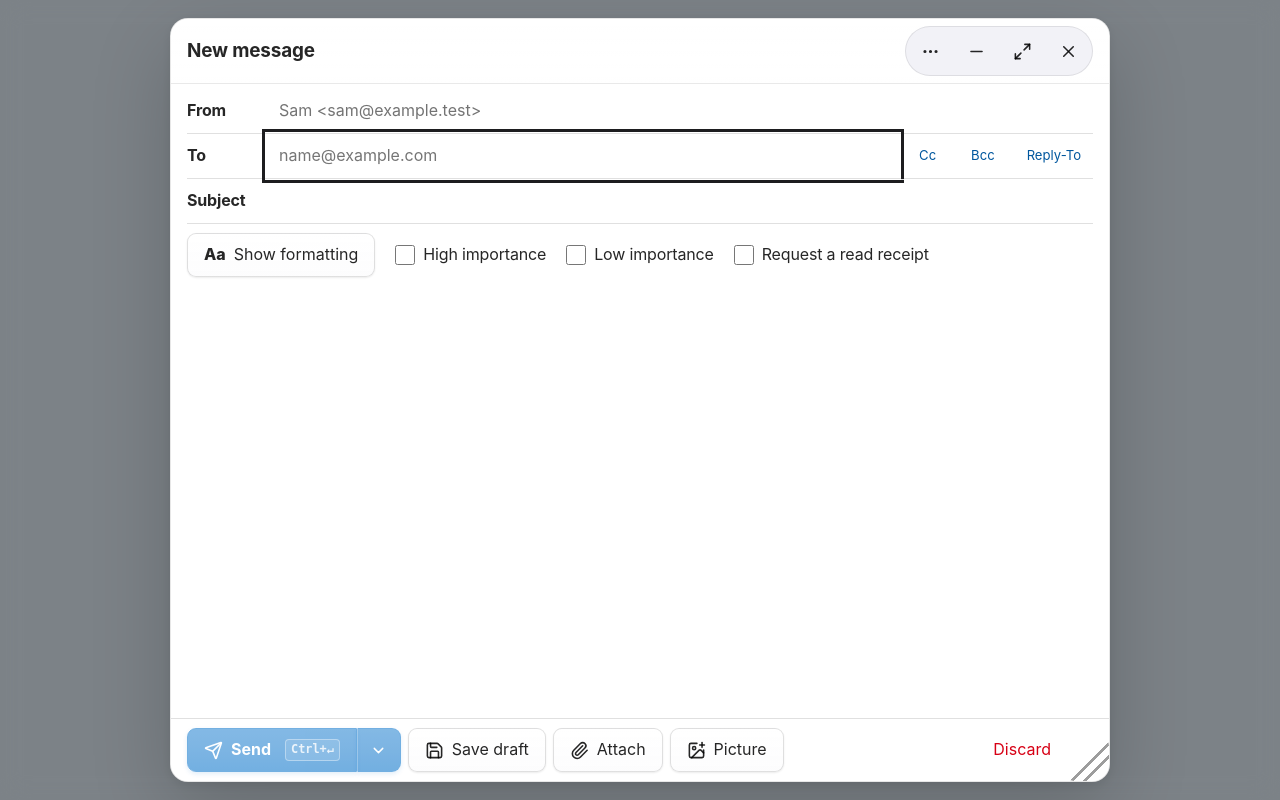
Test: composer draft persistence › closes recipient suggestions on Escape without closing the composer
The image size is (1280, 800).
Type "jan" into the dropdown with placeholder "name@example.com" at (583, 156), box [267,134,899,178]
Wait 200 ms
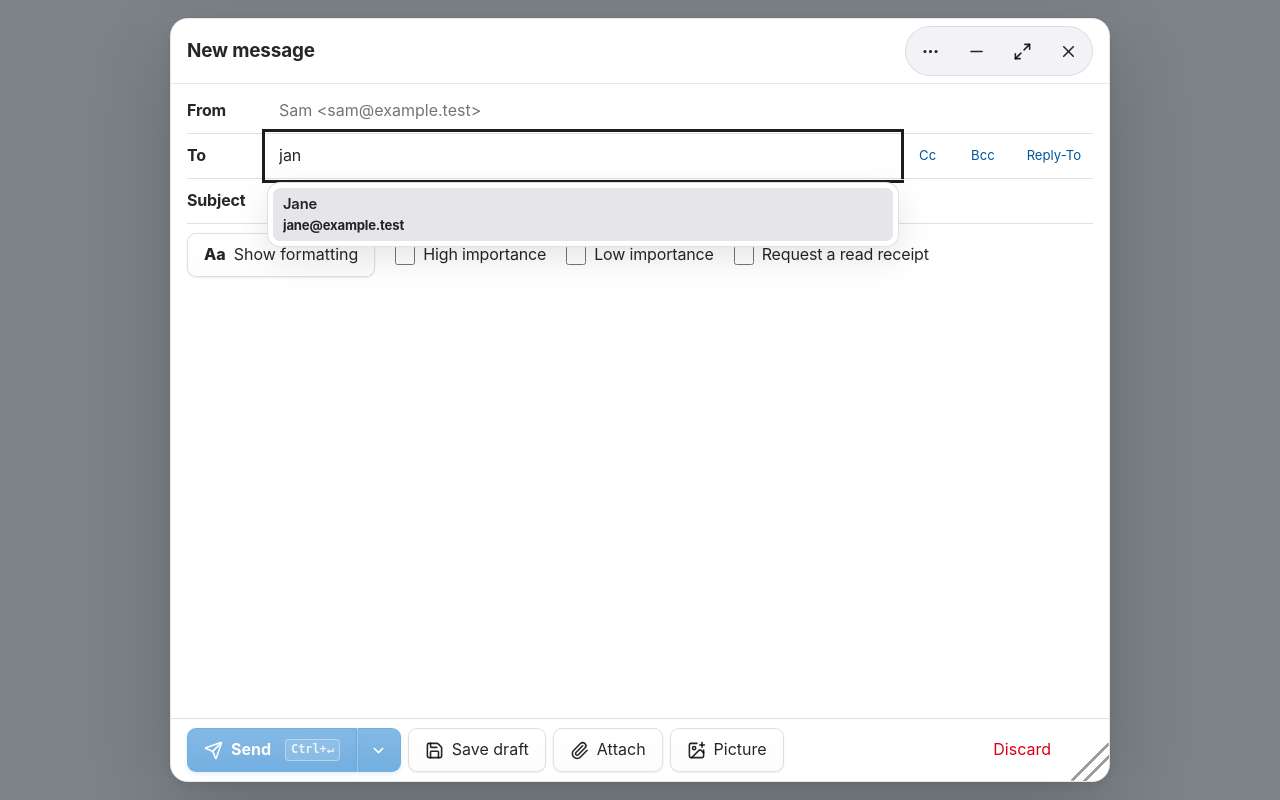
Expected: the list is shown, [267,182,899,247]
Press Escape in the dropdown with placeholder "name@example.com", box [267,134,899,178]
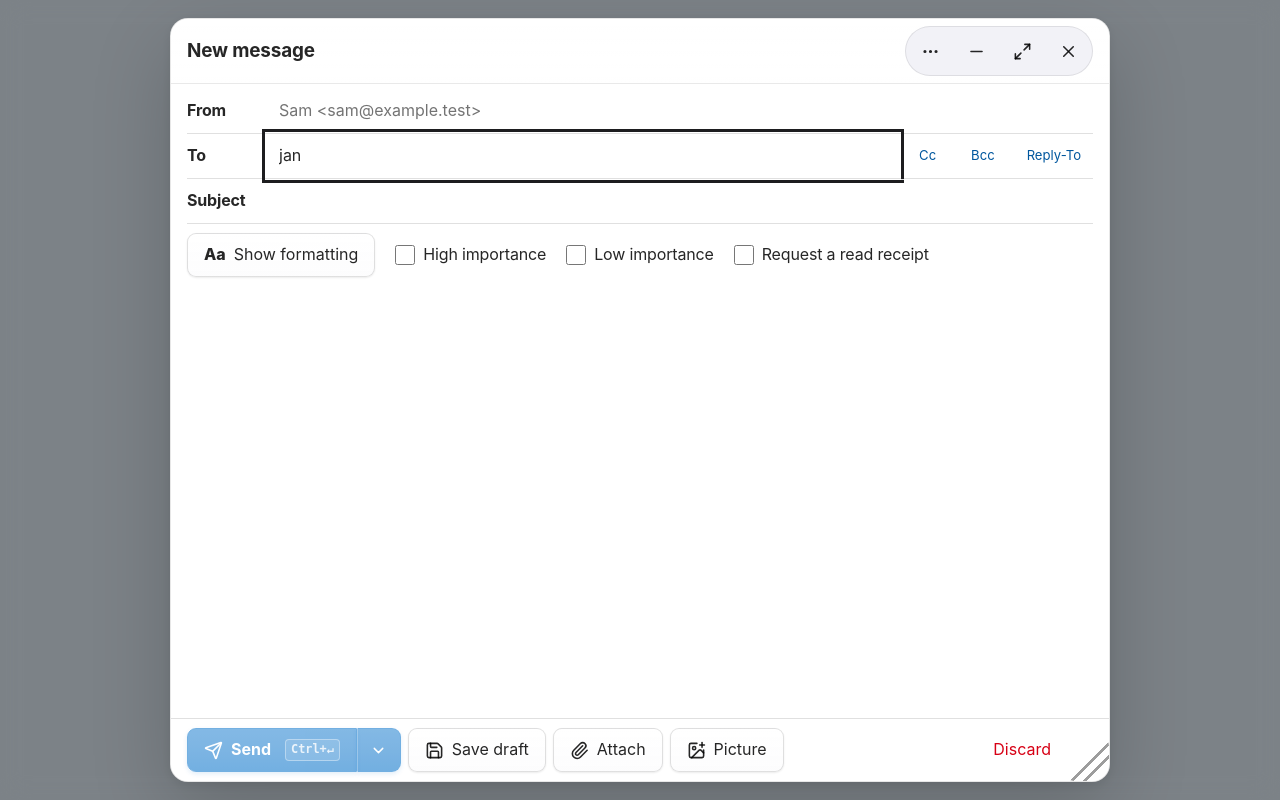
Expected: the list is gone
